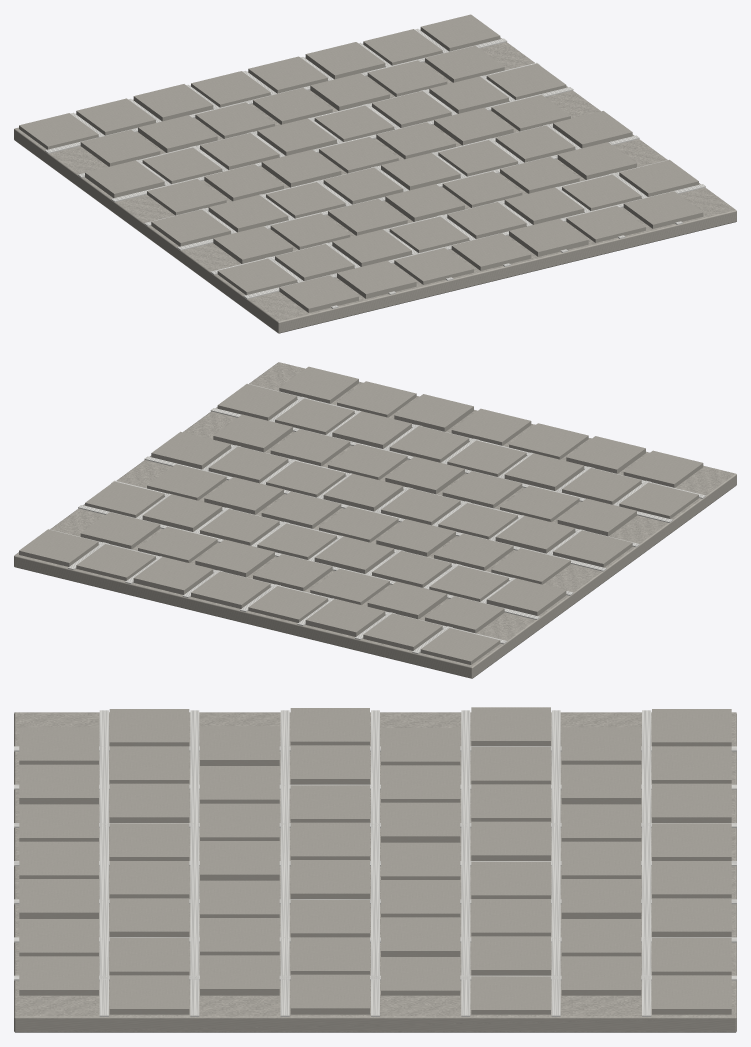
File: greek-island-village-and-harbour-lane-paving-module-5f026eba__37078.glb
3 renders of one model, top to bottom at view 1: azimuth 30°, elevation 25°; view 2: azimuth 150°, elevation 25°; view 3: azimuth 270°, elevation 25°, orthographic. The views are drawn at different scales.
Visible parts, largest first — view 1: lane-paving-module; view 2: lane-paving-module; view 3: lane-paving-module.
Boxes of the visible parts, bbox=[...] form: lane-paving-module: bbox=[14, 14, 736, 333]; lane-paving-module: bbox=[14, 362, 736, 678]; lane-paving-module: bbox=[14, 707, 736, 1032].
Bounding box in the file's own units: 4 × 0.1401 × 4.
Materials: 2 (2 with a texture image).
